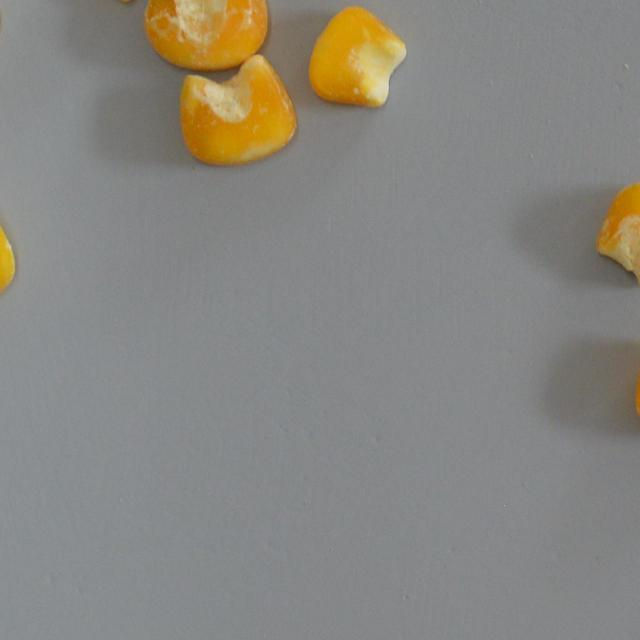no_canjicado: (306, 5, 406, 108)
pelicula: (177, 54, 298, 166), (143, 0, 270, 72), (594, 180, 640, 291), (0, 180, 16, 316)
